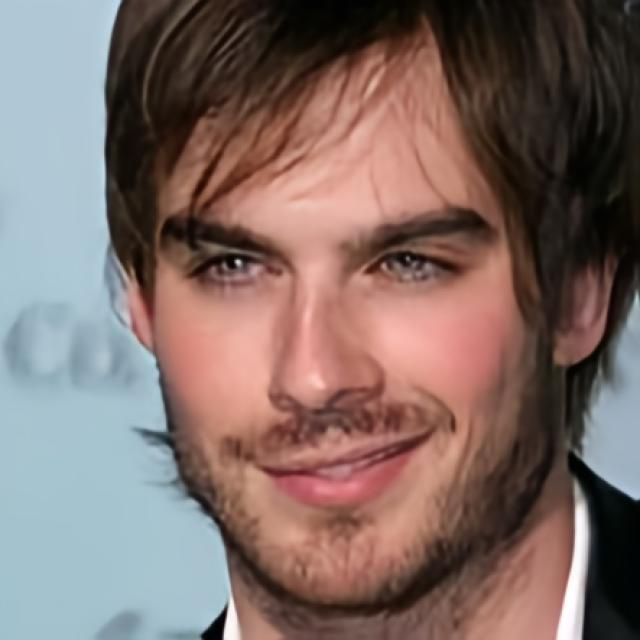content: (148, 38, 550, 612)
